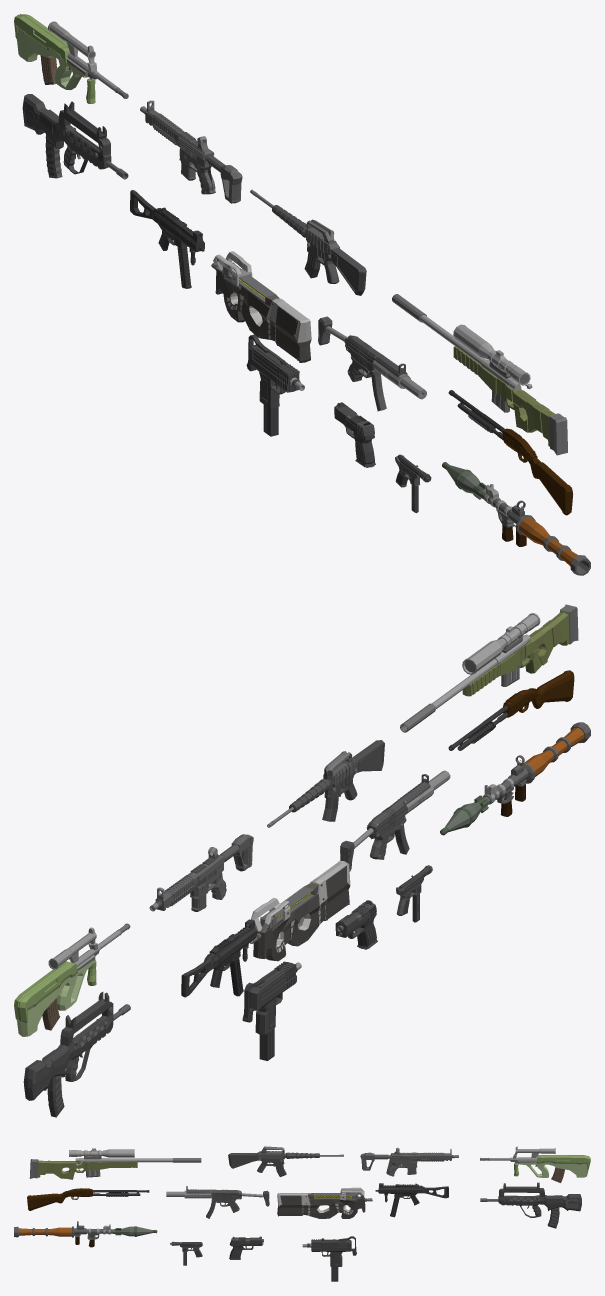
File: low poly weapons pack.fbx
3 views of the same model, one above another, from view 1: azimuth 30°, elevation 25°; view 2: azimuth 150°, elevation 25°; view 3: azimuth 270°, elevation 25° (orthographic). The views are drawn at different scales.
Parts seen in each view (by area): view 1: Куб.016, Куб.008, Куб.002, Куб, Куб.022, Цилиндр.016, Куб.024, Куб.010, Cube.009, Cube.007, Куб.013, Цилиндр.004 (+4 smaller); view 2: Куб.016, Куб.008, Куб.002, Куб, Куб.024, Цилиндр.016, Куб.022, Cube.009, Куб.010, Куб.013, Cube.007, Цилиндр.004 (+6 smaller); view 3: Куб.016, Куб.008, Куб.002, Куб, Куб.022, Куб.024, Цилиндр.016, Cube.009, Куб.010, Cube.007, Куб.013, Цилиндр.003 (+10 smaller).
Part boxes in pixels (<box>): Куб.016: <box>213,251,311,362</box>; Куб.008: <box>22,94,111,174</box>; Куб.002: <box>453,346,567,455</box>; Куб: <box>14,14,88,90</box>; Куб.022: <box>305,219,366,295</box>; Цилиндр.016: <box>484,484,590,575</box>; Куб.024: <box>145,100,215,194</box>; Куб.010: <box>249,344,299,408</box>; Cube.009: <box>130,190,204,251</box>; Cube.007: <box>502,428,573,515</box>; Куб.013: <box>344,335,407,381</box>; Цилиндр.004: <box>453,324,530,385</box>; Куб.016: <box>251,861,350,961</box>; Куб.008: <box>23,992,113,1100</box>; Куб.002: <box>462,604,578,696</box>; Куб: <box>14,960,94,1036</box>; Куб.024: <box>155,847,226,910</box>; Цилиндр.016: <box>483,722,590,804</box>; Куб.022: <box>323,740,384,800</box>; Cube.009: <box>181,919,257,997</box>; Куб.010: <box>249,961,296,1034</box>; Куб.013: <box>366,774,430,859</box>; Cube.007: <box>503,670,574,717</box>; Цилиндр.004: <box>462,613,540,674</box>; Куб.016: <box>277,1187,365,1218</box>; Куб.008: <box>498,1182,581,1217</box>; Куб.002: <box>29,1159,137,1179</box>; Куб: <box>518,1155,590,1177</box>; Куб.022: <box>228,1146,284,1172</box>; Куб.024: <box>386,1147,451,1176</box>; Цилиндр.016: <box>14,1221,111,1237</box>; Cube.009: <box>378,1183,448,1205</box>; Куб.010: <box>311,1239,351,1266</box>; Cube.007: <box>27,1188,92,1210</box>; Куб.013: <box>186,1186,241,1212</box>; Цилиндр.003: <box>75,1158,201,1162</box>.
Bounding box in the file's own units: 260 × 1481 × 5824.
